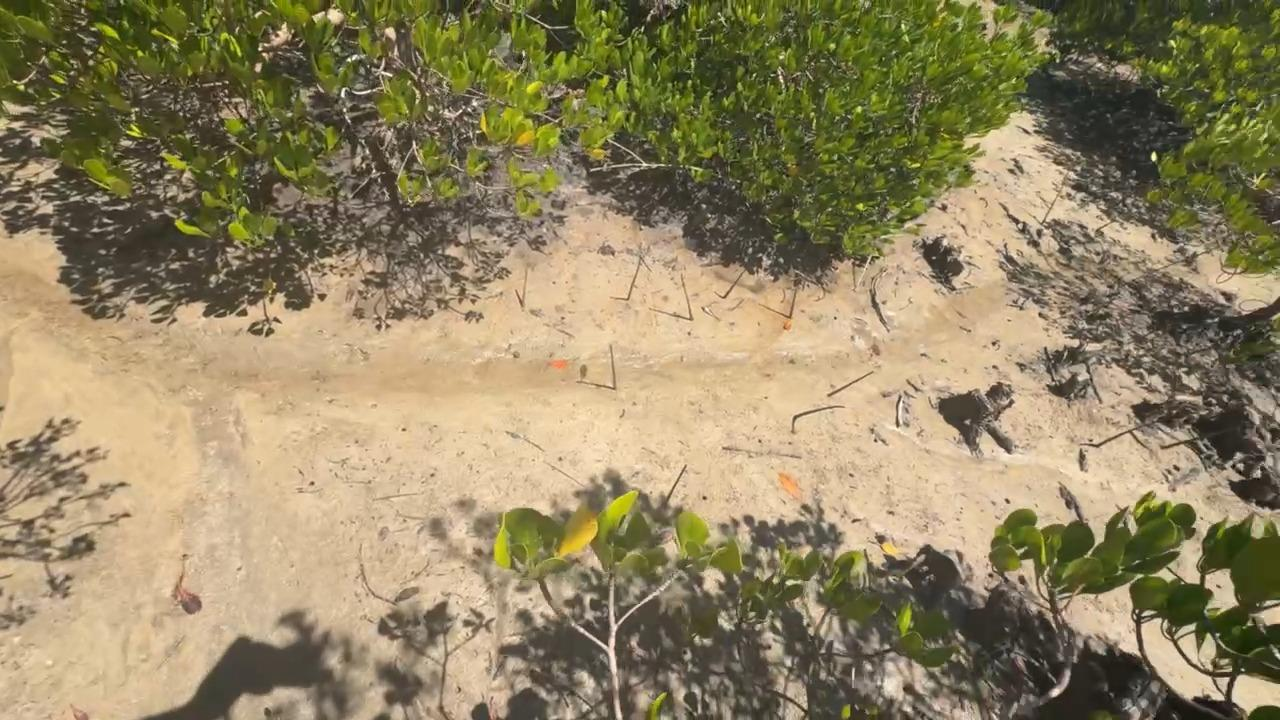Tree: (1160, 422, 1255, 450), (1040, 168, 1072, 225), (827, 370, 874, 397), (662, 464, 689, 505), (1096, 425, 1143, 448), (793, 405, 845, 419), (627, 255, 642, 301), (723, 270, 746, 299), (855, 255, 873, 291), (681, 273, 694, 321), (1103, 193, 1134, 213), (610, 344, 617, 390), (263, 295, 273, 325), (789, 288, 798, 319), (522, 268, 528, 312), (1096, 221, 1114, 232)
